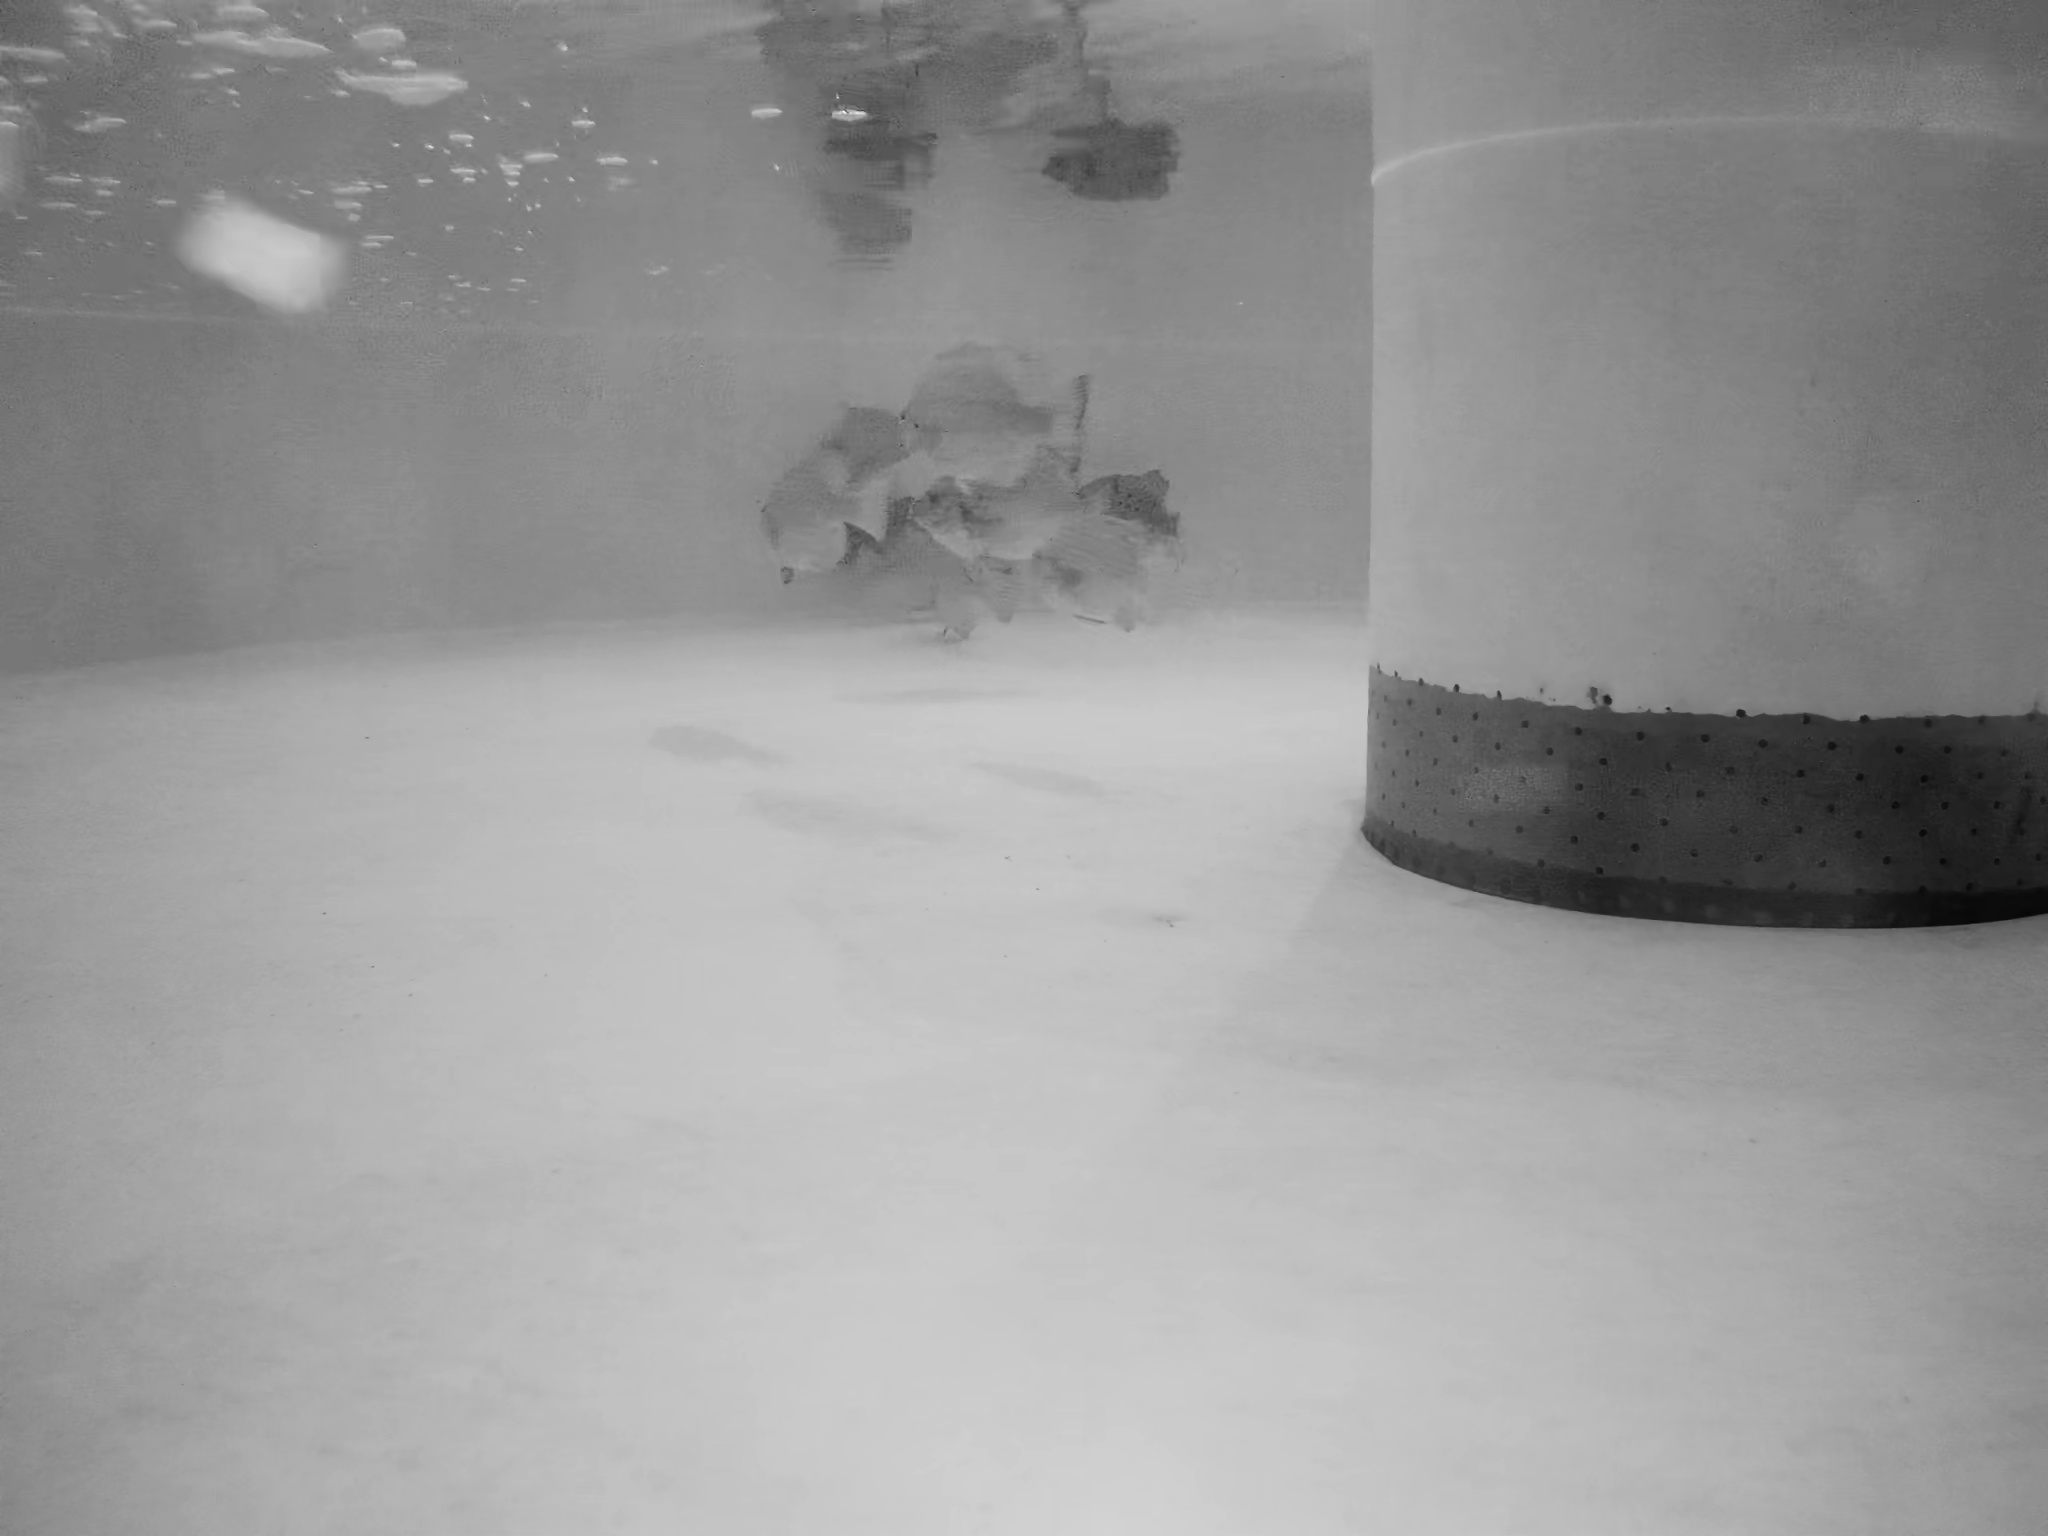fish: (898, 344, 1111, 478), (901, 437, 1121, 566), (1019, 508, 1172, 632), (756, 450, 889, 582), (919, 539, 1055, 637), (801, 411, 922, 502), (1077, 470, 1195, 558)
